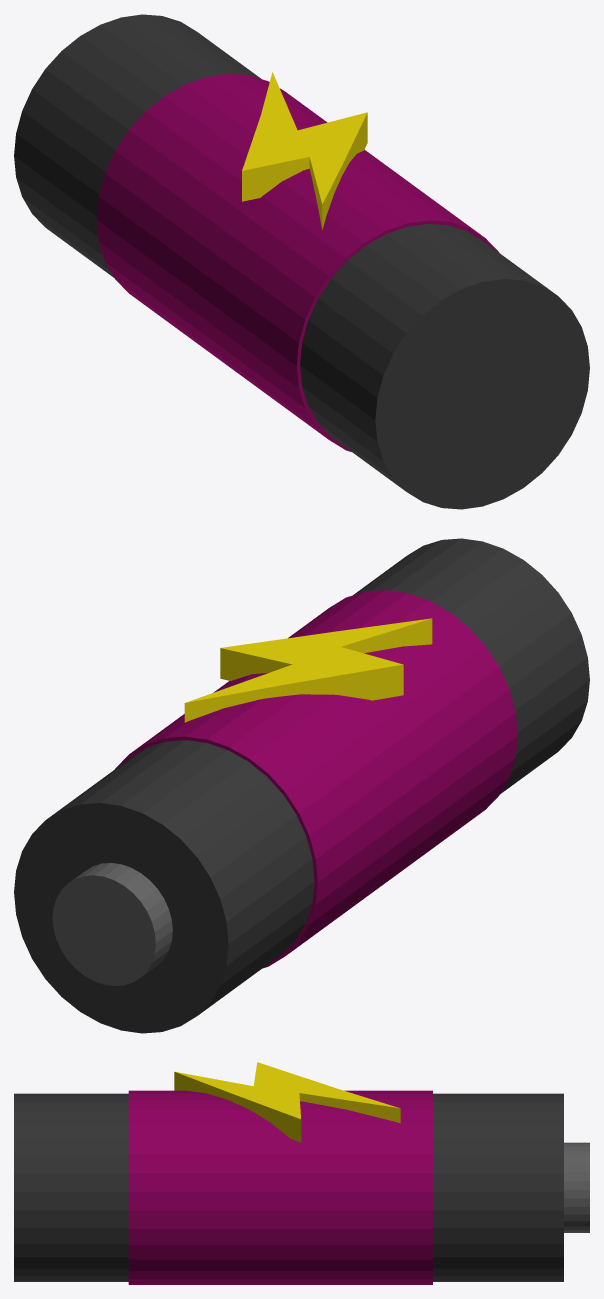
The model's file is BatteryIcon.fbx.
The picture shows the model from 3 angles, top to bottom: view 1: azimuth 30°, elevation 25°; view 2: azimuth 150°, elevation 25°; view 3: azimuth 270°, elevation 25°; orthographic projection. The views are drawn at different scales.
Visible parts, largest first — view 1: Cylinder.006; view 2: Cylinder.006; view 3: Cylinder.006.
Boxes of the visible parts, x1,y1,x2,y2 form: Cylinder.006: [14, 14, 589, 509]; Cylinder.006: [14, 538, 589, 1033]; Cylinder.006: [14, 1062, 589, 1284].
Bounding box in the file's own units: 70.28 × 73.36 × 208.
